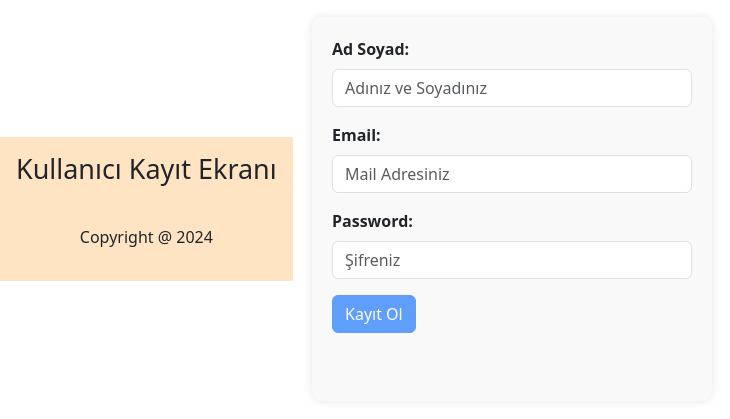
Test: Hata Mesajlarının Testi › Geçersiz e-posta hatası görüntülenmeli
The width and height of the screenshot is (730, 419).
Type "gecersizemail" into the field with id "exampleEmail" at (512, 174), box [332,155,692,193]
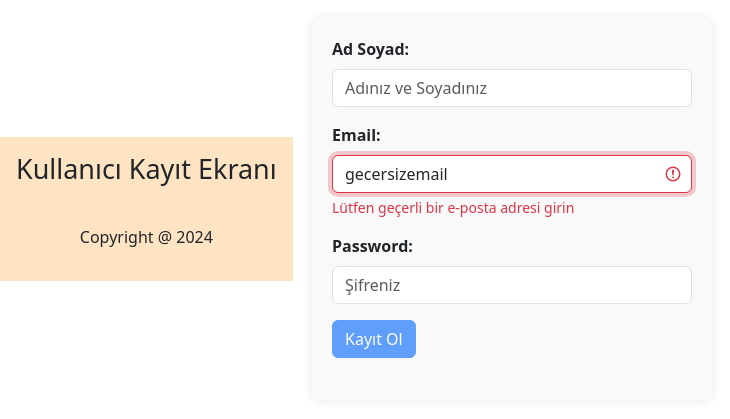
Expected: the text "Lütfen geçerli bir e-posta adresi girin" is shown, [332,198,574,217]
